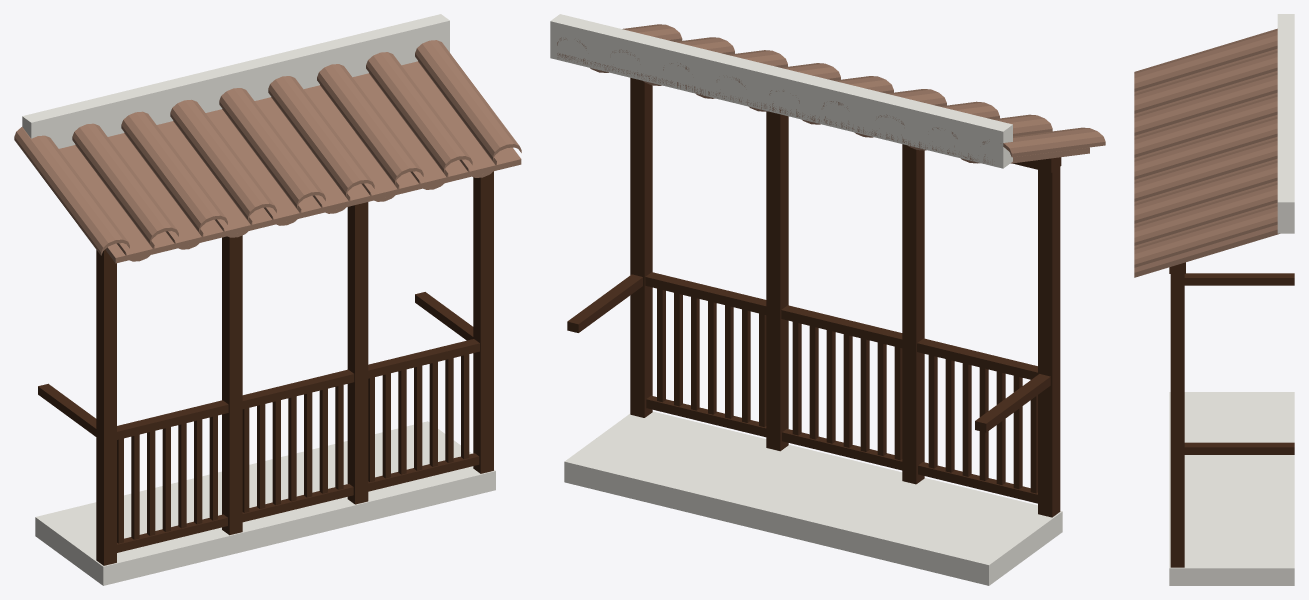
File: wood-balcony.glb
3 views of the same model, side by side, from view 1: azimuth 30°, elevation 25°; view 2: azimuth 150°, elevation 25°; view 3: azimuth 270°, elevation 25° (orthographic). The views are drawn at different scales.
Visible parts, largest first — view 1: wood-balcony-tile, wood-balcony-timber, wood-balcony-plaster; view 2: wood-balcony-timber, wood-balcony-plaster, wood-balcony-tile; view 3: wood-balcony-tile, wood-balcony-plaster, wood-balcony-timber.
Part boxes in pixels (left/top/right/bottom): wood-balcony-tile: left=14, top=40, right=521, bottom=263; wood-balcony-timber: left=38, top=171, right=493, bottom=565; wood-balcony-plaster: left=22, top=14, right=495, bottom=585; wood-balcony-timber: left=567, top=78, right=1061, bottom=517; wood-balcony-plaster: left=550, top=14, right=1062, bottom=585; wood-balcony-tile: left=557, top=24, right=1105, bottom=164; wood-balcony-tile: left=1134, top=28, right=1279, bottom=277; wood-balcony-plaster: left=1169, top=14, right=1294, bottom=585; wood-balcony-timber: left=1169, top=262, right=1294, bottom=567.
Size of the model in its own units: 3.26 by 3.09 by 1.15.
